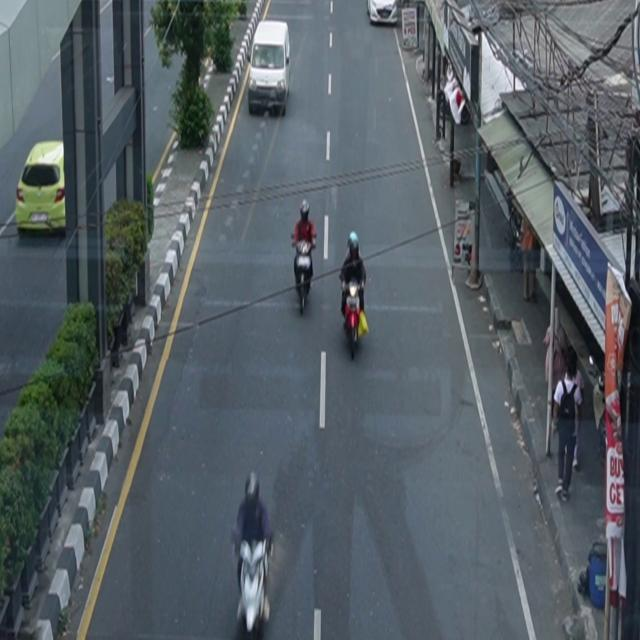car: (16, 140, 67, 236), (249, 21, 292, 118), (367, 1, 398, 26)
